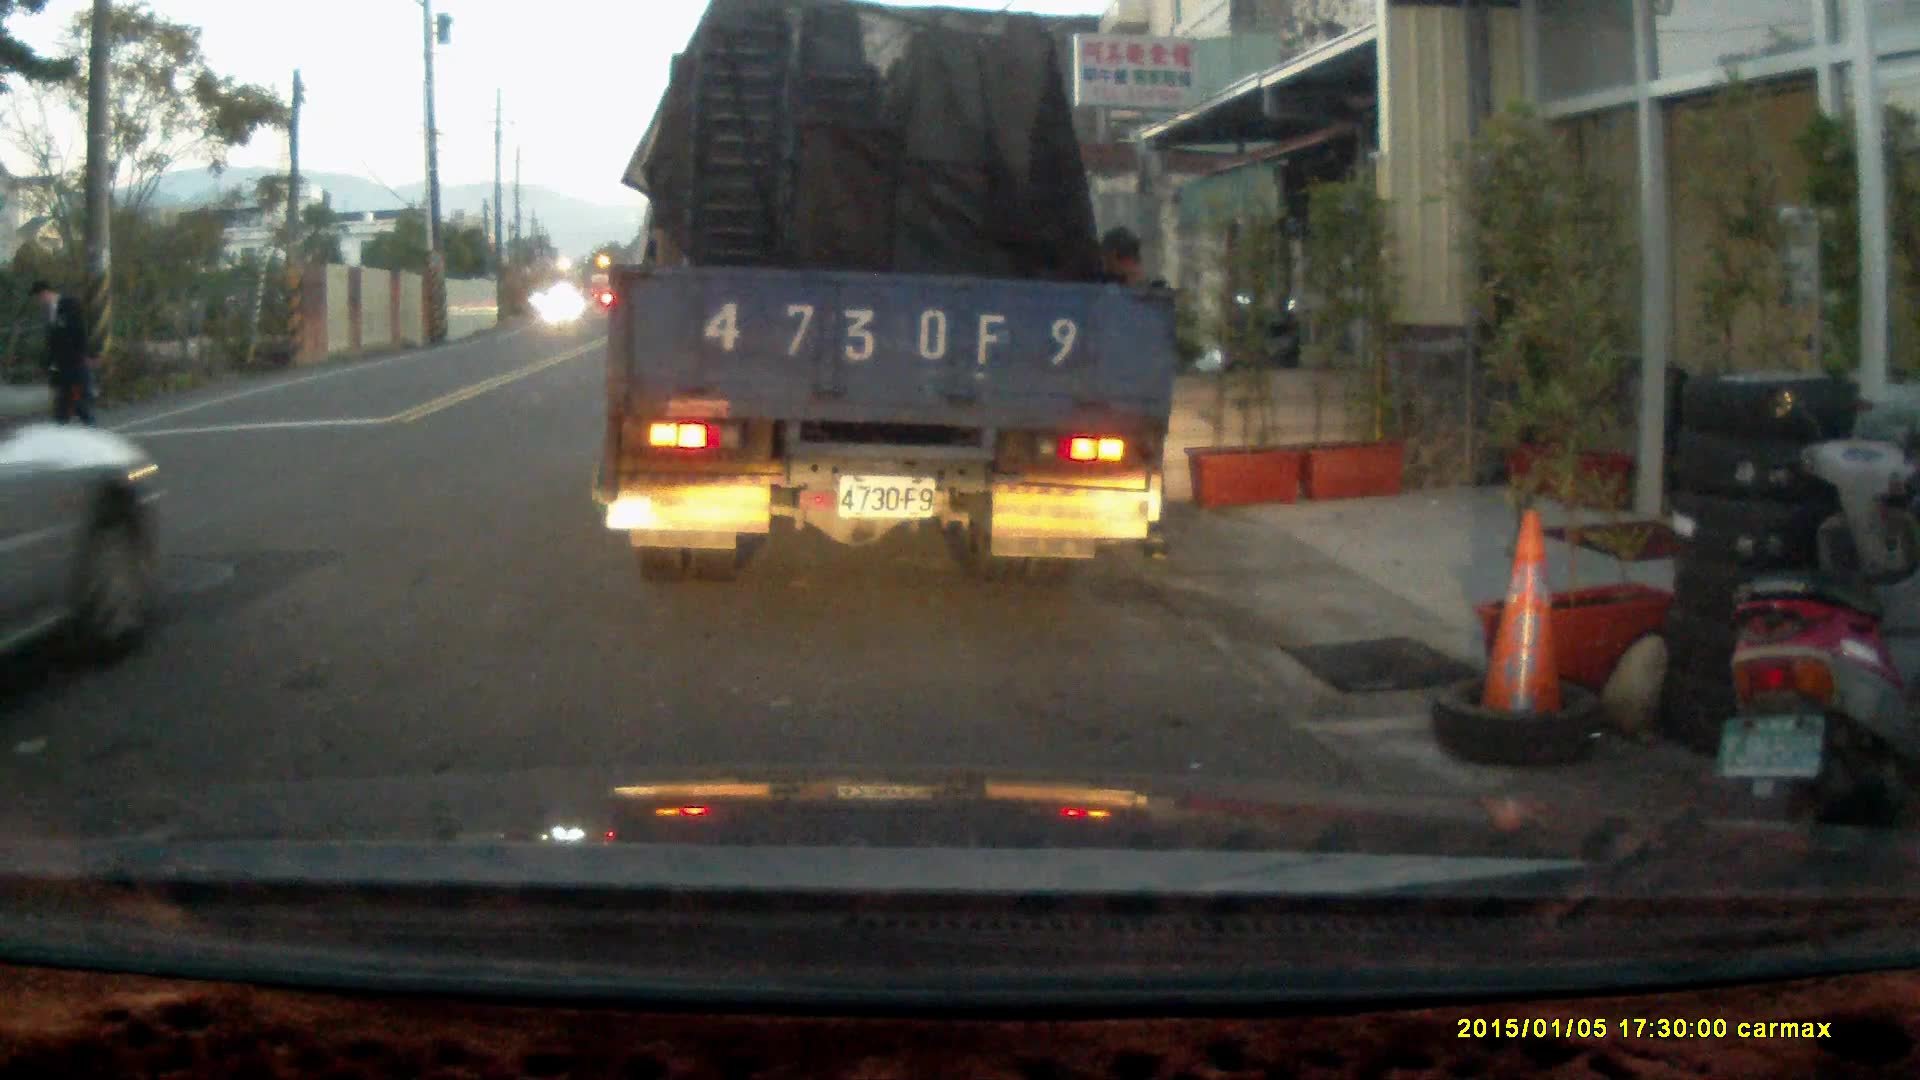pedestrian: (1080, 225, 1180, 562), (21, 275, 100, 443)
vehicle: (605, 23, 1188, 572), (1, 351, 175, 669)
